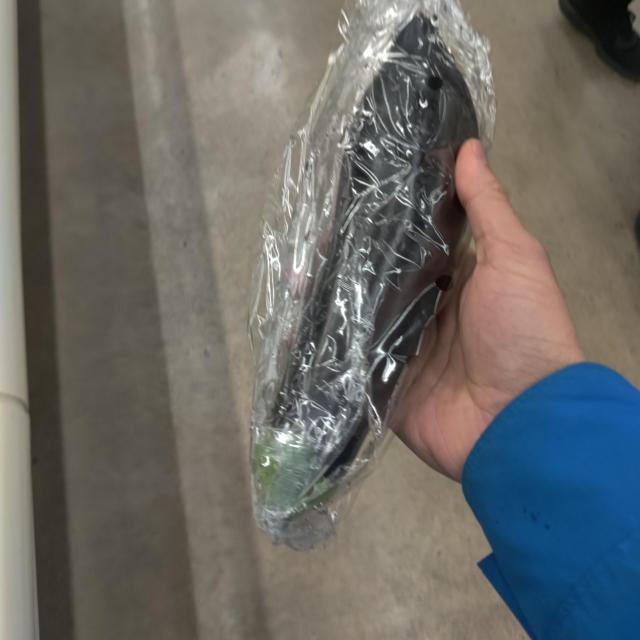Eggplant: (264, 0, 472, 527)
